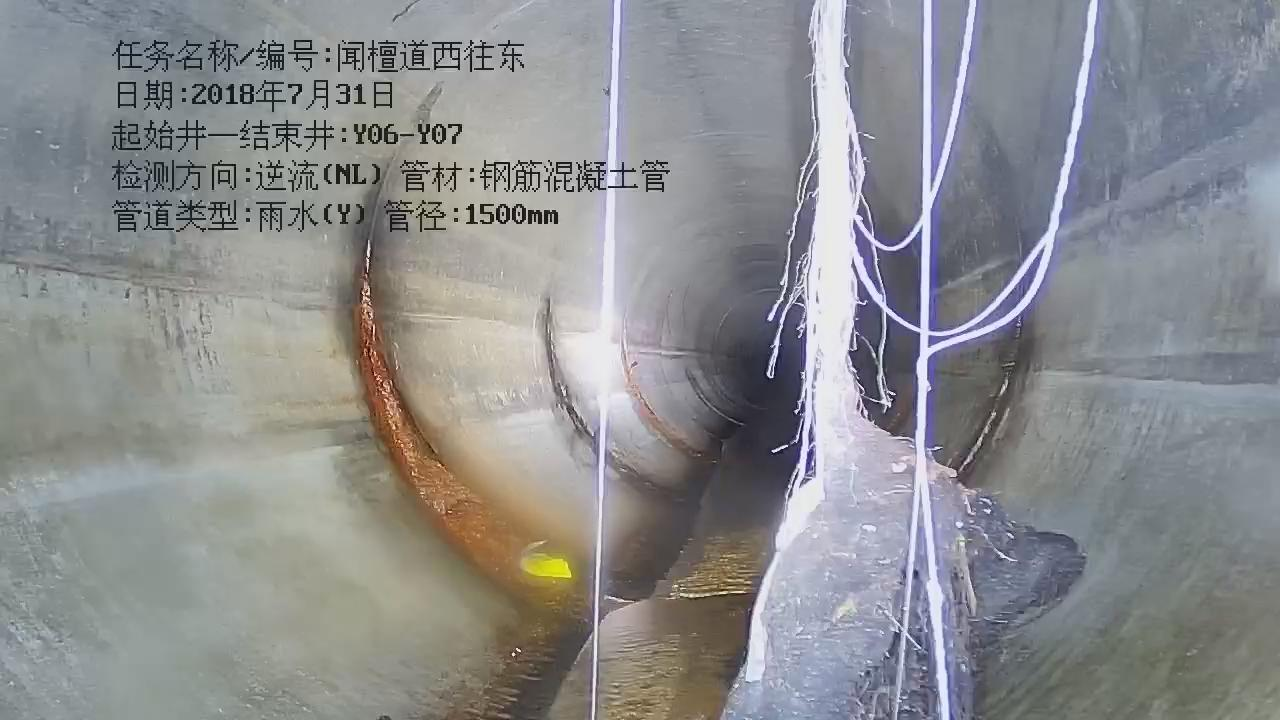SG: (720, 0, 1100, 719), (546, 0, 638, 719)
